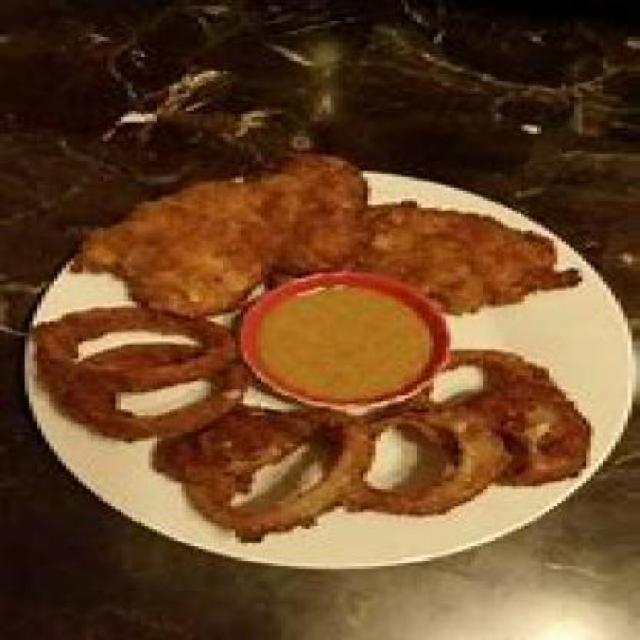chicken wings: (49, 148, 596, 308)
onion rings: (21, 296, 582, 549)
